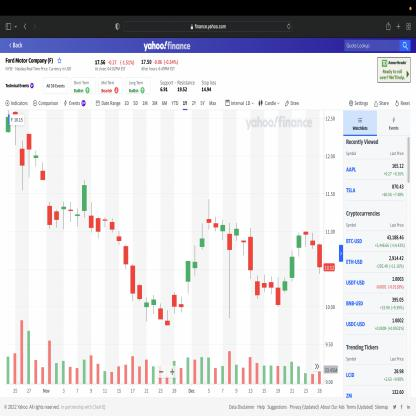Bearish: 3 Black Crows: (123, 241, 143, 305)
Bearish: Kicker: (80, 176, 95, 238)
